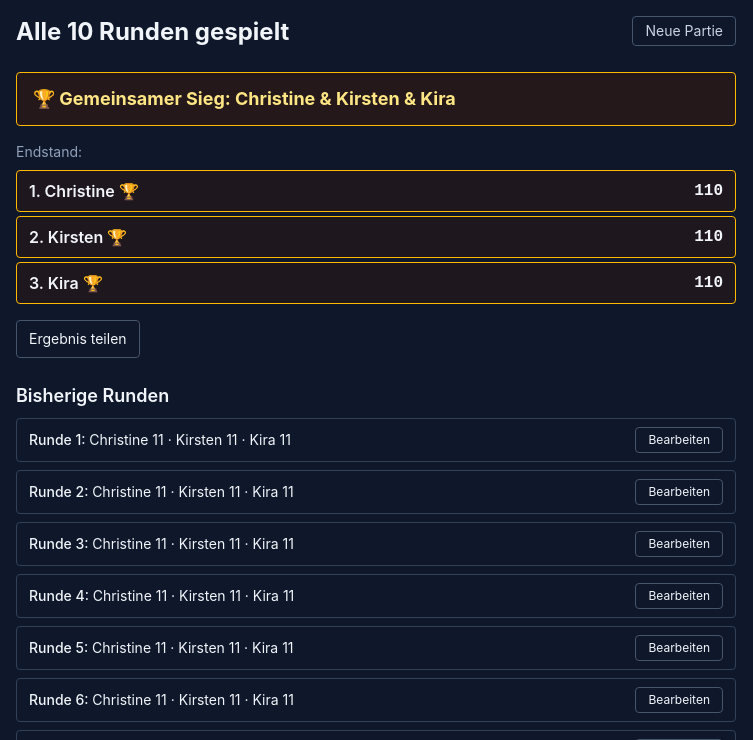
Scenario: RoundEntryScreen › editing a previous round › does not advance to a new round while editing an earlier one, even if the game is finished
Click the button "Bearbeiten" in the row of "Runde 1:".
click(679, 440)  # box x1=635 y1=427 x2=723 y2=453
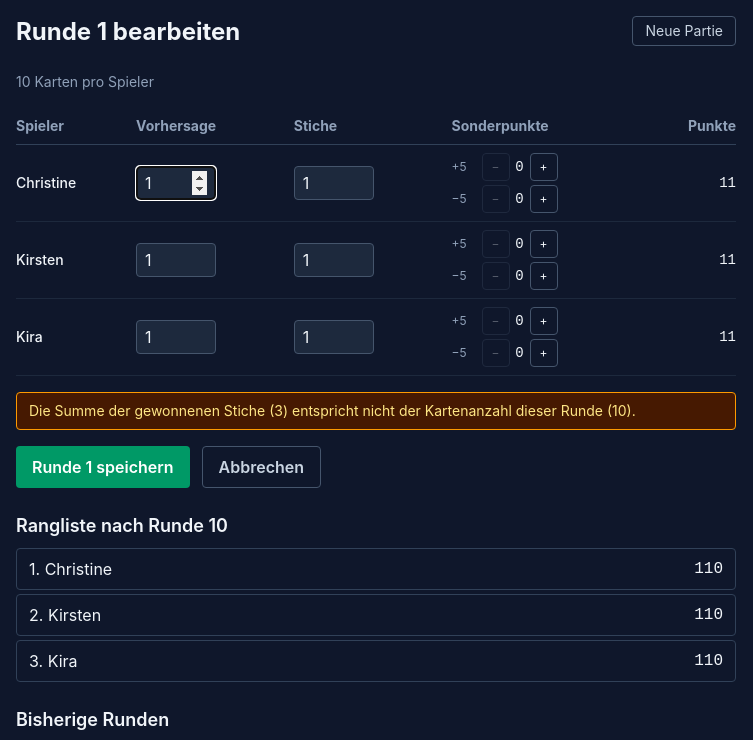
Expected: the heading "Runde 1 bearbeiten" is shown, x1=16 y1=16 x2=240 y2=48
Expected: the heading "Alle 10 Runden gespielt" is gone
